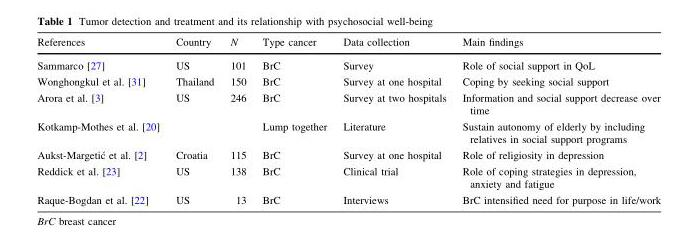table: (36, 36, 660, 205)
table column: (453, 36, 660, 205), (36, 36, 167, 205), (334, 36, 453, 205), (253, 36, 334, 205), (167, 36, 221, 205), (221, 36, 253, 205)
table column header: (36, 36, 660, 53)
table row: (36, 89, 660, 118), (36, 163, 660, 192), (36, 118, 660, 146), (36, 53, 660, 73), (36, 36, 660, 53), (36, 146, 660, 163), (36, 73, 660, 89), (36, 192, 660, 205)
